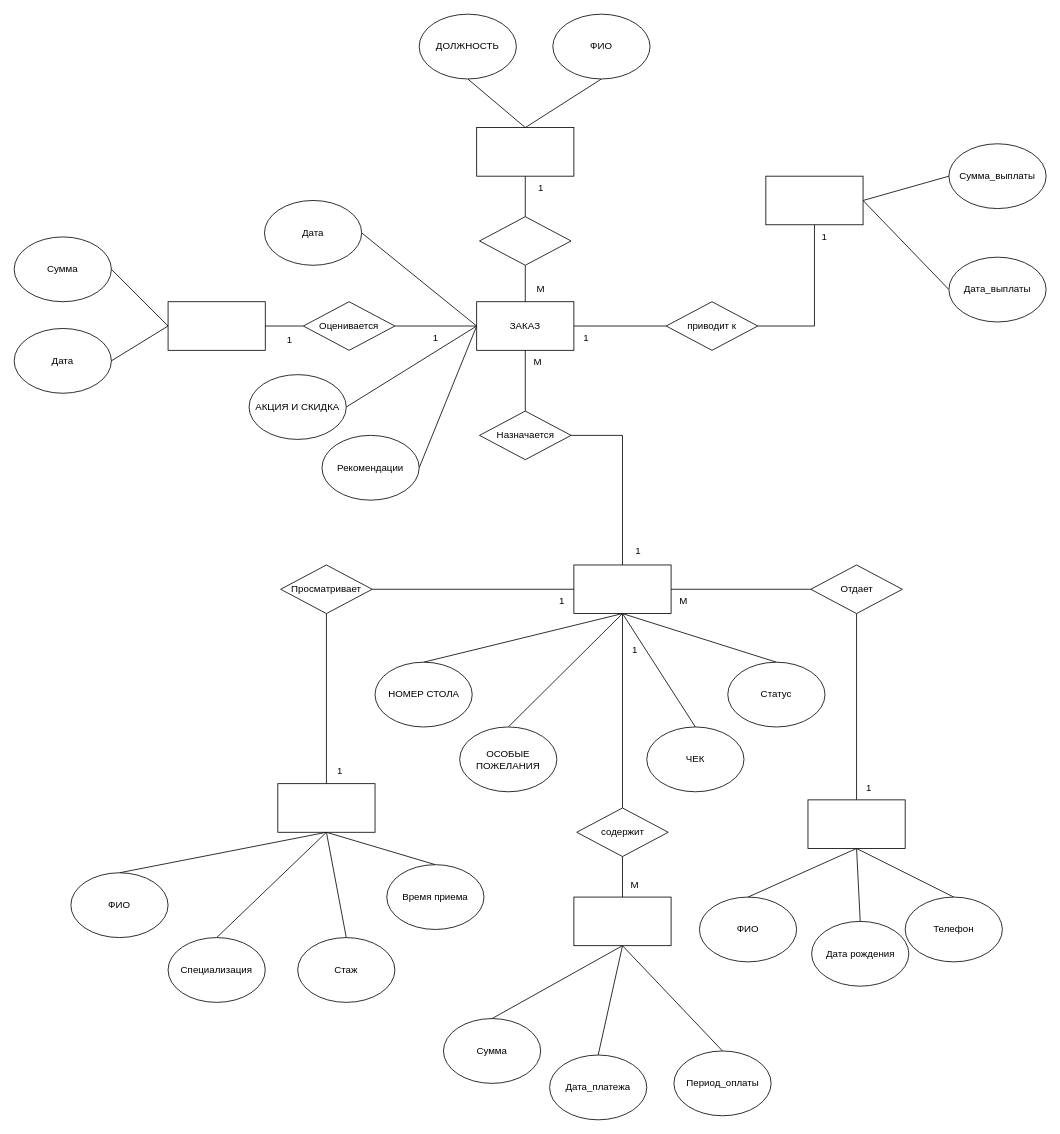
The diagram is 1060 pixels wide and 1134 high, and some of its shapes have lost their labels. The centre of each missing label's shape, as x and y in pixels:
"БЛЮДО" goes at [216,325].
"Врач" goes at [326,807].
"ГОСТЬ" goes at [856,823].
"ИСТОРИЯ ЗАКАЗОВ" goes at [622,589].
"ОПЛАТА" goes at [814,200].
"Платеж" goes at [622,921].
"Проводит" goes at [525,240].
"СОТРУДНИК РЕСТОРАН" goes at [525,151].
